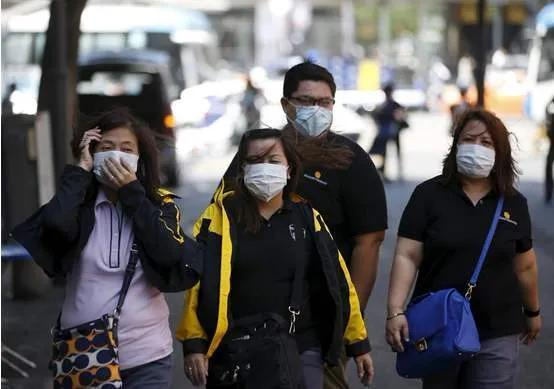mask: (239, 134, 292, 207), (92, 121, 142, 188), (289, 72, 336, 140), (454, 118, 500, 181)
